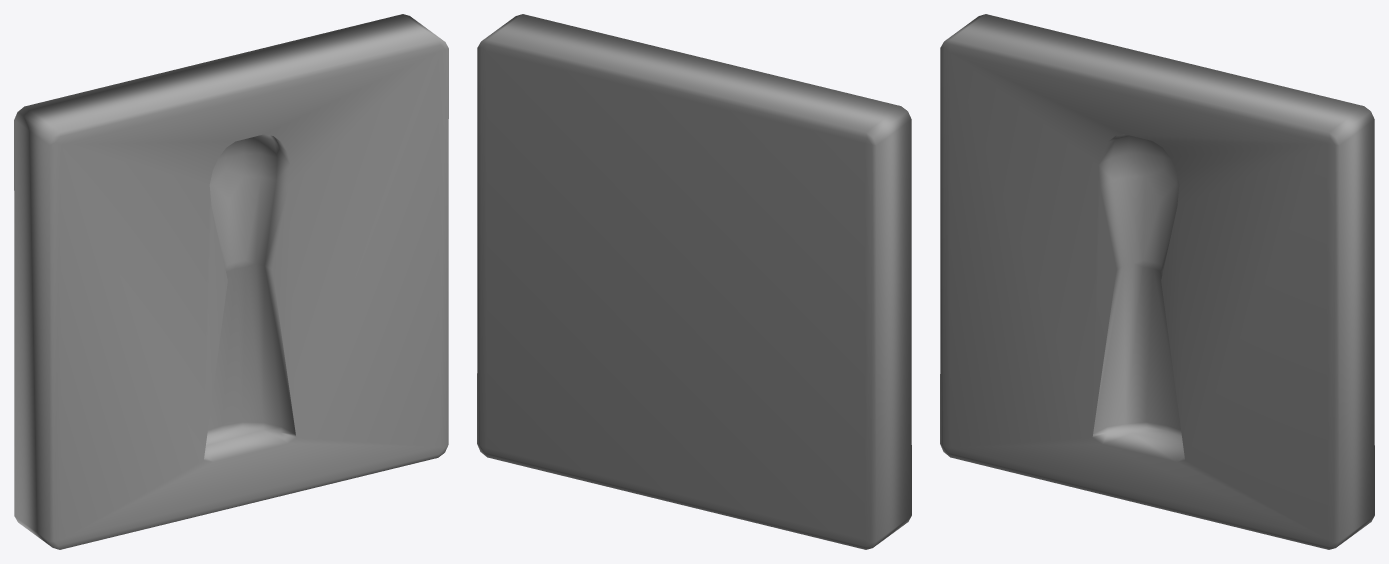
The model's file is padlock.obj.
3 renders of one model, left to right at view 1: azimuth 30°, elevation 25°; view 2: azimuth 150°, elevation 25°; view 3: azimuth 330°, elevation 25°, orthographic.
Visible parts, largest first — view 1: 南京錠; view 2: 南京錠; view 3: 南京錠.
Part boxes in pixels (x1,y1,x2,y2): 南京錠: (14,14,448,549); 南京錠: (477,14,911,549); 南京錠: (940,14,1374,549).
Bounding box in the file's own units: 0.3008 × 0.3008 × 0.0486.
1 material, 1 textured.
